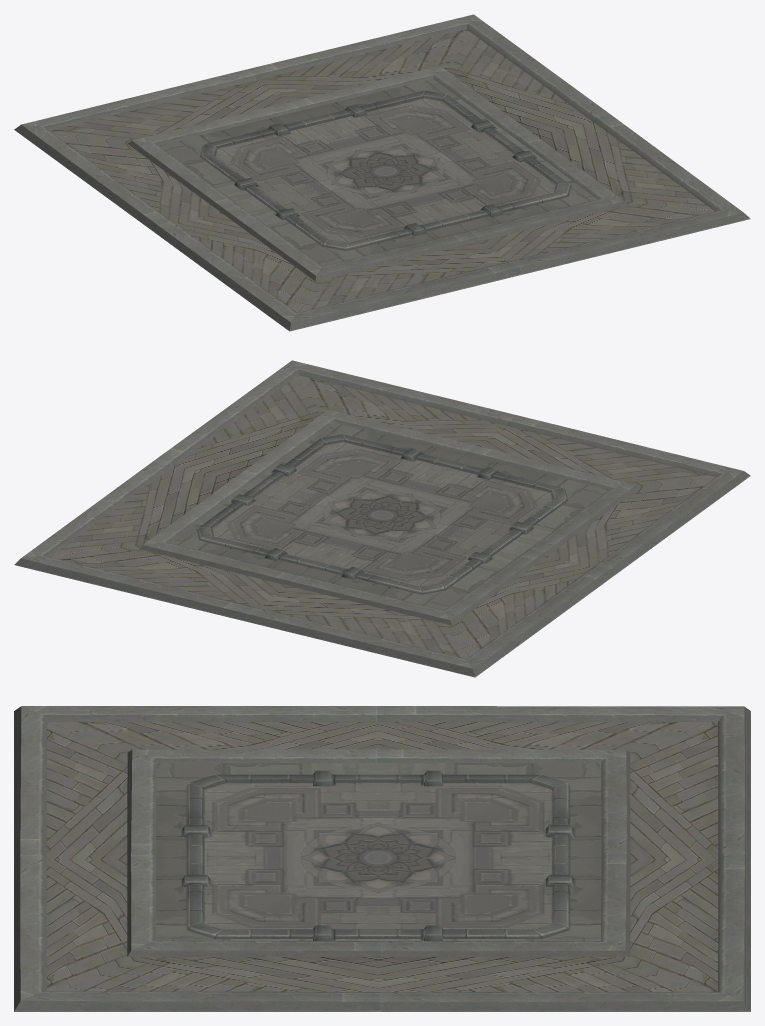
File: bujian_11.fbx
3 renders of one model, top to bottom at view 1: azimuth 30°, elevation 25°; view 2: azimuth 150°, elevation 25°; view 3: azimuth 270°, elevation 25°, orthographic. The views are drawn at different scales.
Parts seen in each view (by area): view 1: polySurface25; view 2: polySurface25; view 3: polySurface25.
Boxes of the visible parts, box(x1,y1,x2,y2) form: polySurface25: box(14, 14, 750, 331); polySurface25: box(14, 360, 750, 677); polySurface25: box(14, 706, 750, 1011).
Size of the model in its own units: 12.57 by 0.1942 by 13.02.
1 material, 1 textured.
